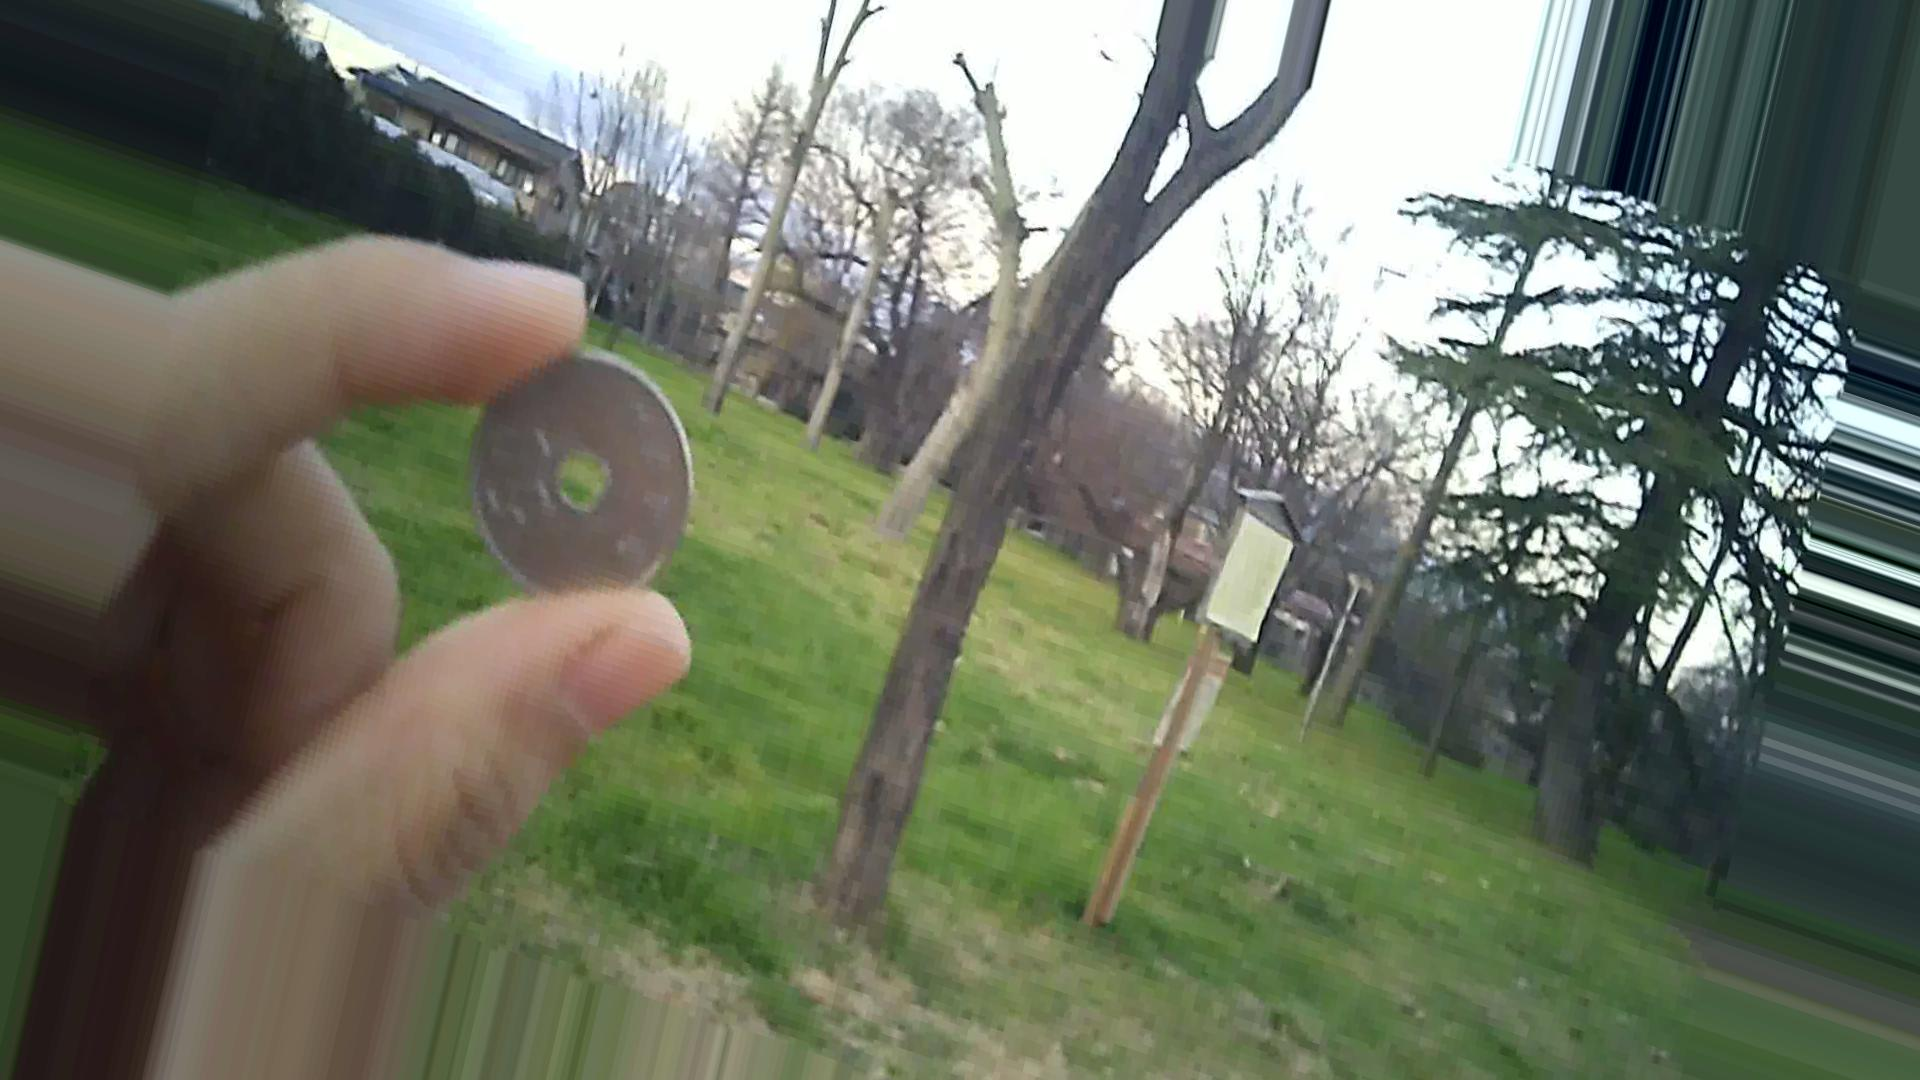50 Yen: (460, 339, 700, 597)
